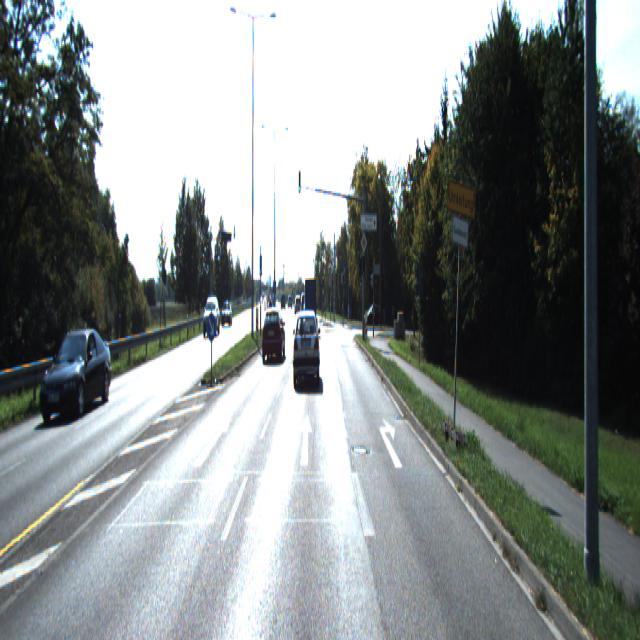Car: (42, 328, 114, 421), (293, 313, 321, 385), (262, 307, 286, 364), (303, 276, 317, 334), (203, 298, 220, 337), (221, 301, 232, 327)
